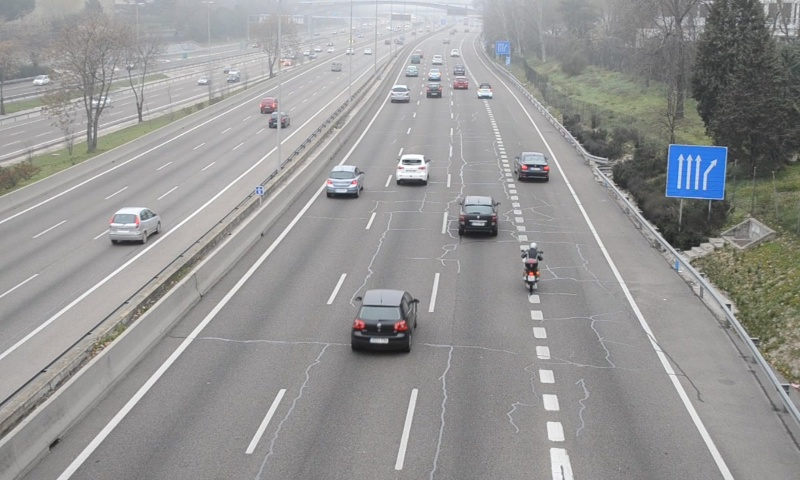car: (352, 288, 414, 351), (457, 196, 496, 234), (325, 166, 362, 196), (516, 152, 550, 182), (396, 154, 430, 182), (390, 84, 411, 104), (478, 82, 494, 100), (426, 82, 441, 98)
motorcycle: (520, 242, 545, 293)
